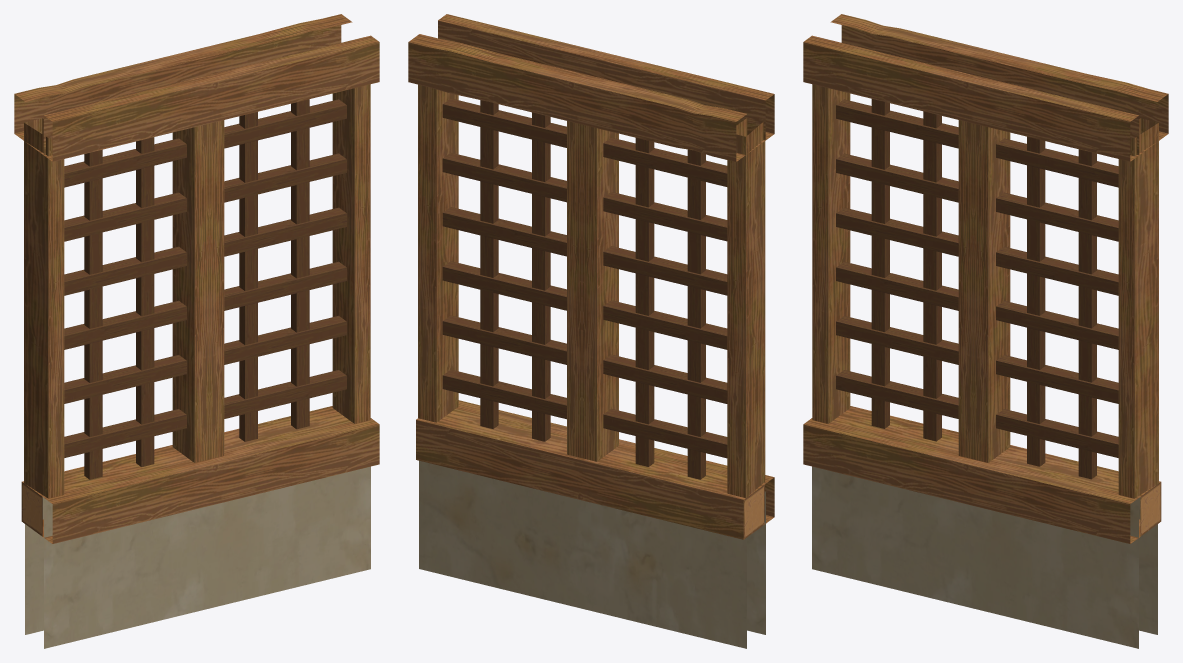
Rendered from Wall_Plaster_WoodGrid.glb.
The picture shows the model from 3 angles, left to right: view 1: azimuth 30°, elevation 25°; view 2: azimuth 150°, elevation 25°; view 3: azimuth 330°, elevation 25°; orthographic projection.
Visible parts, largest first — view 1: Wall_Plaster_WoodGrid; view 2: Wall_Plaster_WoodGrid; view 3: Wall_Plaster_WoodGrid.
Boxes of the visible parts, x1,y1,x2,y2 form: Wall_Plaster_WoodGrid: (14, 14, 379, 648); Wall_Plaster_WoodGrid: (408, 14, 774, 648); Wall_Plaster_WoodGrid: (803, 14, 1168, 648).
Size of the model in its own units: 2 by 3.12 by 0.4064.
Materials: 2 (2 with a texture image).
